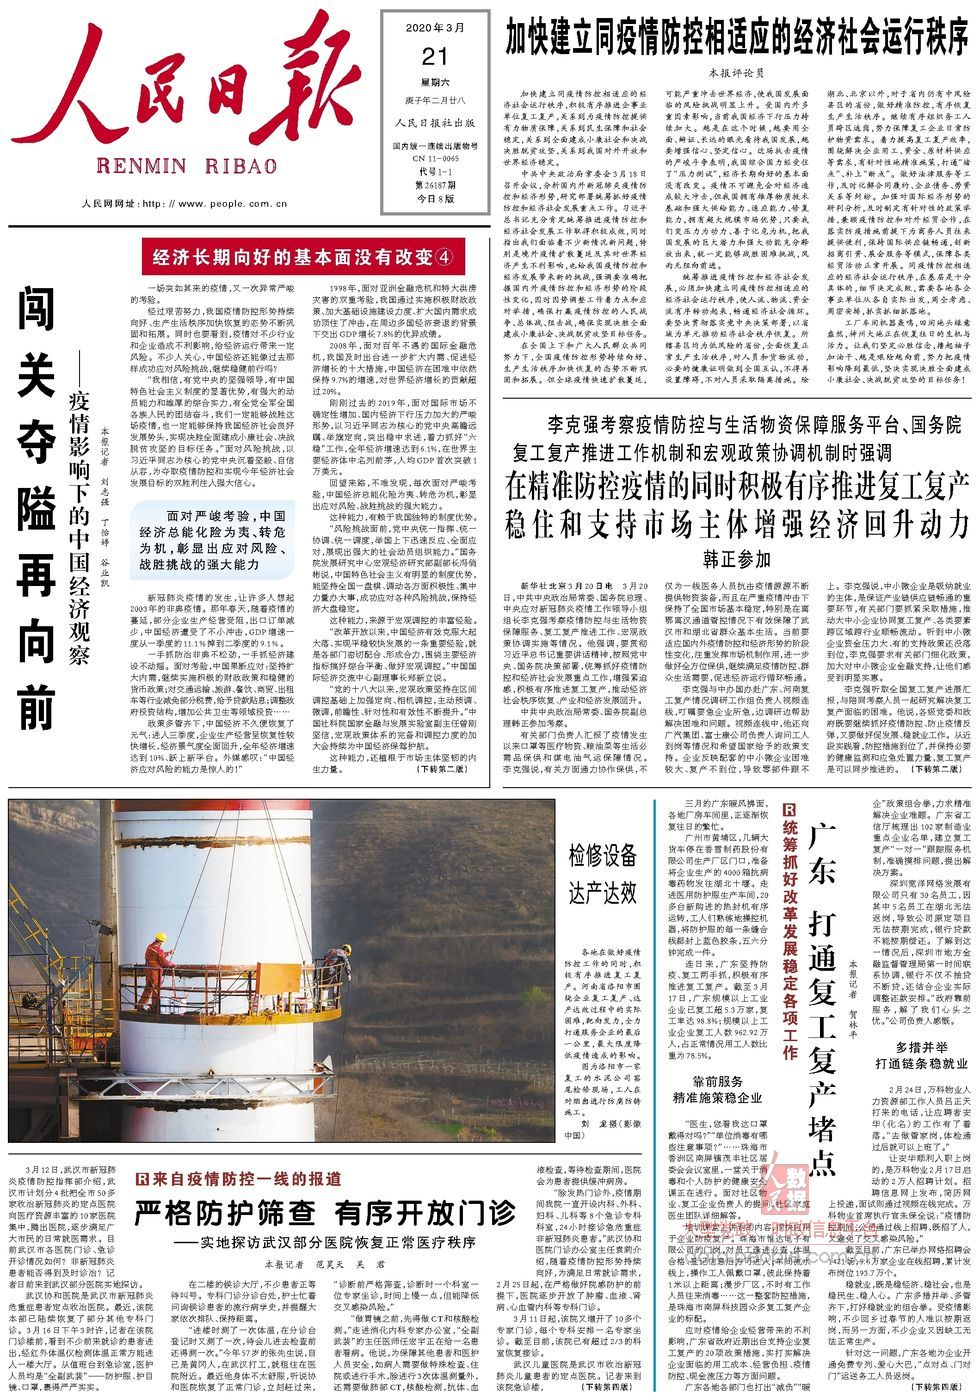pic: (3, 791, 561, 1145)
